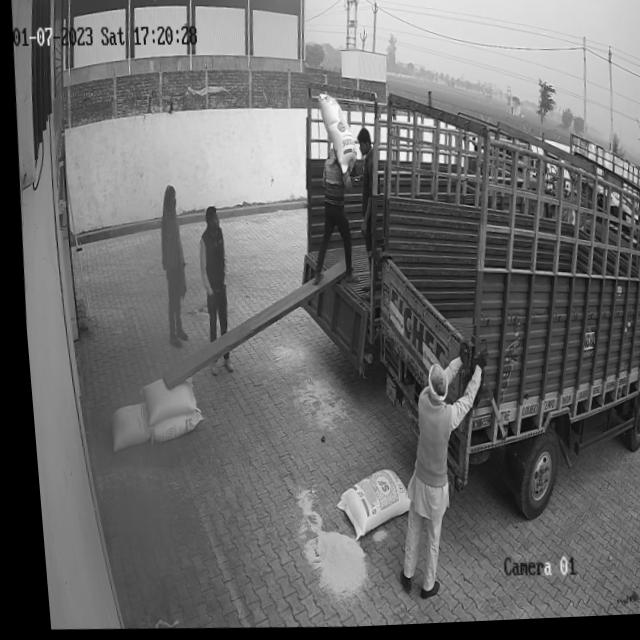sack: (323, 470, 405, 543), (313, 94, 357, 177), (130, 376, 191, 429), (102, 402, 145, 453), (143, 410, 196, 444)
